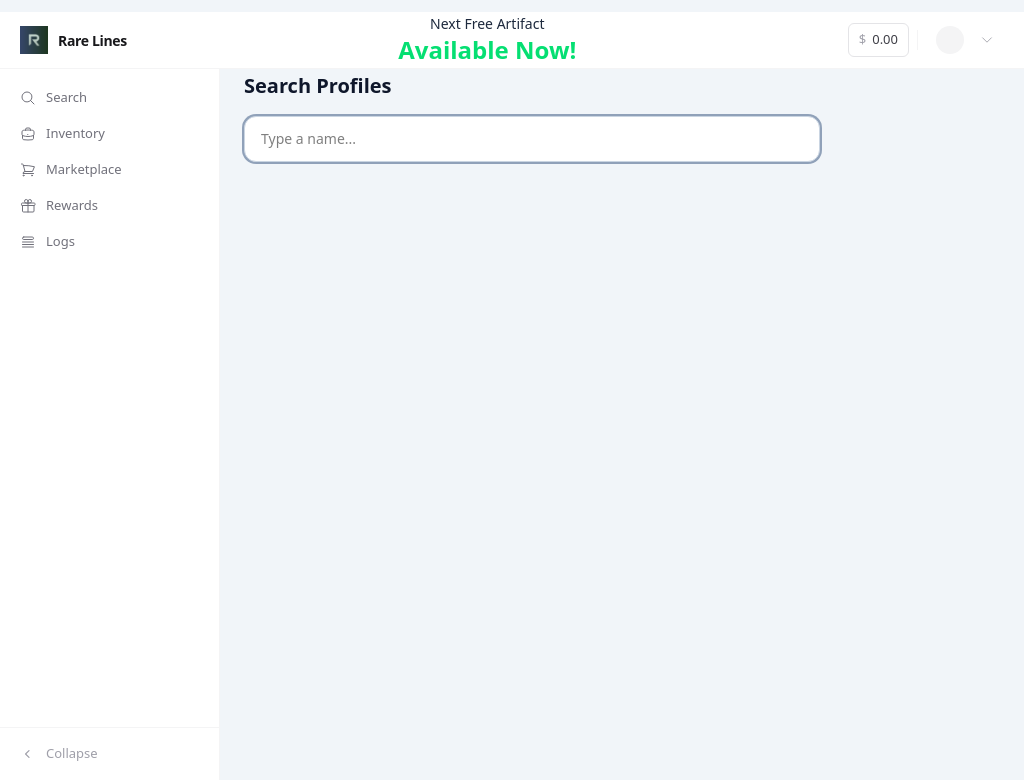
SearchPage › searches with debounce and links to the profile
Type "jane" into the field with placeholder "Type a name...". click: (532, 139)
box: [244, 116, 820, 162]
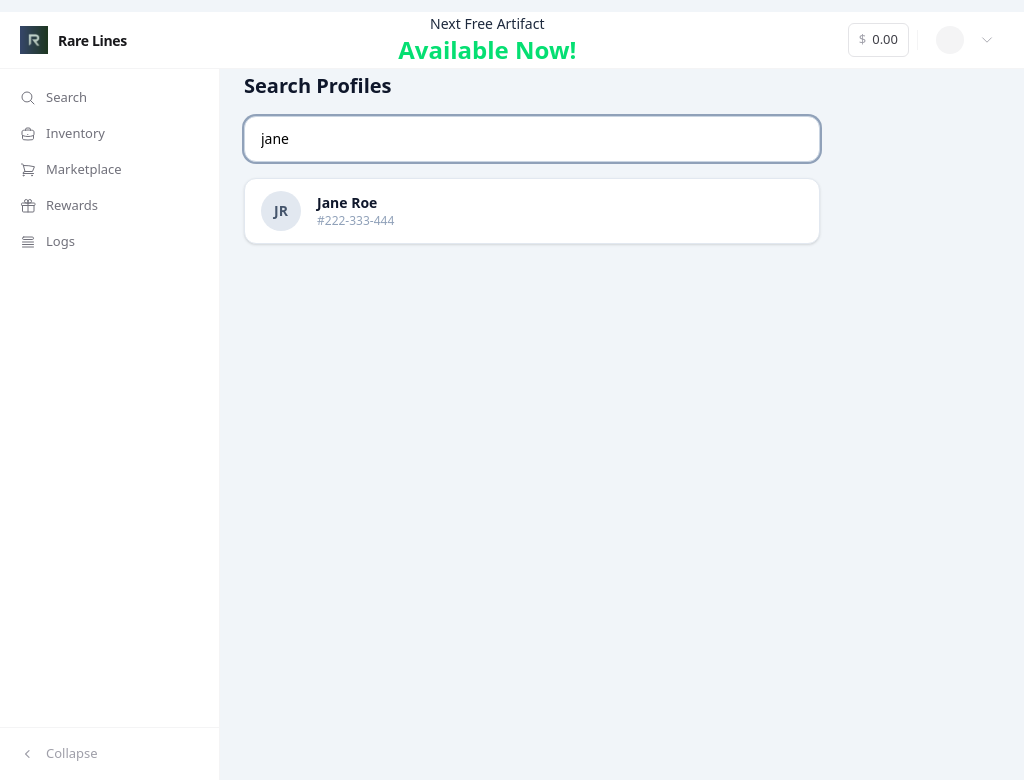
Now the text "Jane Roe" is shown, box [317, 193, 377, 212]
Now the text "#222-333-444" is shown, box [317, 213, 394, 229]
